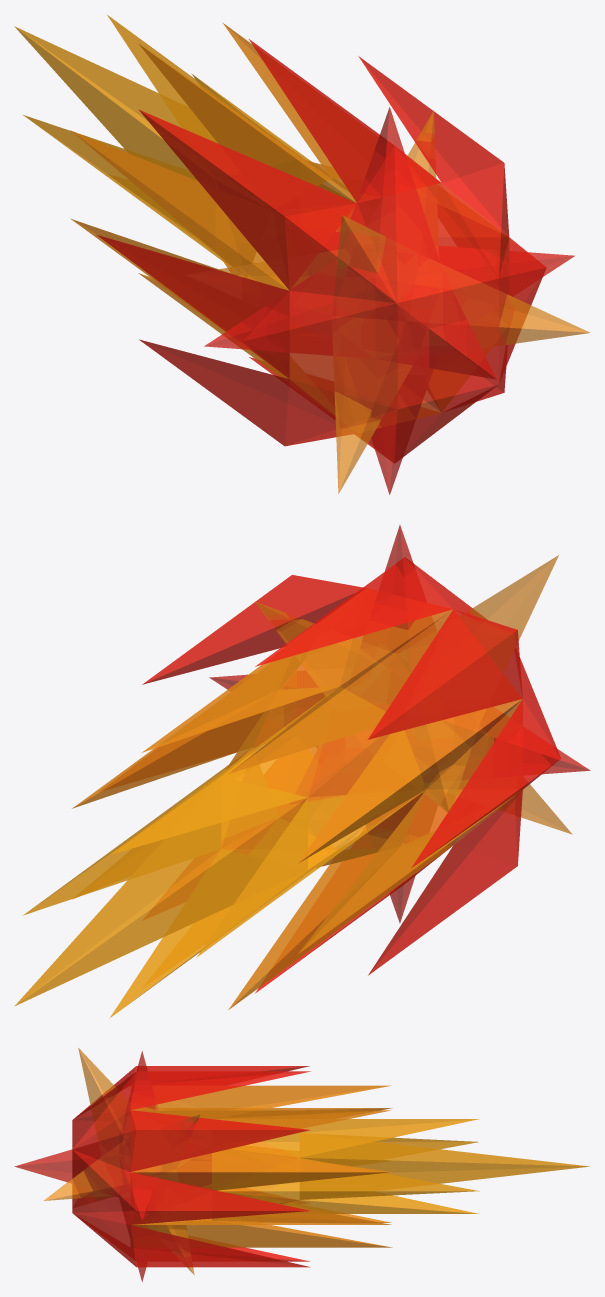
The model's file is model_3087_spotanim.obj.
3 views of the same model, one above another, from view 1: azimuth 30°, elevation 25°; view 2: azimuth 150°, elevation 25°; view 3: azimuth 270°, elevation 25° (orthographic). The views are drawn at different scales.
Parts seen in each view (by area): view 1: 3087; view 2: 3087; view 3: 3087.
Boxes of the visible parts, <box> form: 3087: <box>14,15,590,494</box>; 3087: <box>14,525,590,1018</box>; 3087: <box>14,1048,589,1282</box>.
Bounding box in the file's own units: 44 × 44 × 99.
